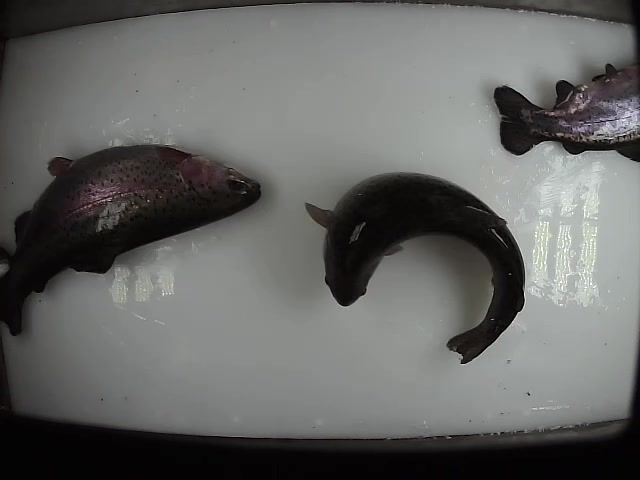fish: (1, 142, 263, 337), (301, 168, 530, 370), (492, 62, 640, 163)
